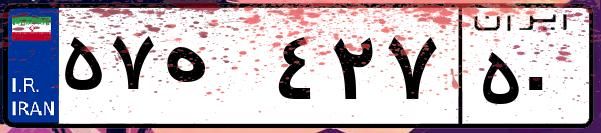0: (525, 38, 570, 115)
2: (330, 28, 385, 110)
4: (270, 28, 330, 110)
5: (57, 26, 110, 100), (475, 38, 525, 113)
7: (385, 28, 445, 110), (110, 28, 158, 98)
ه: (158, 20, 270, 120)
